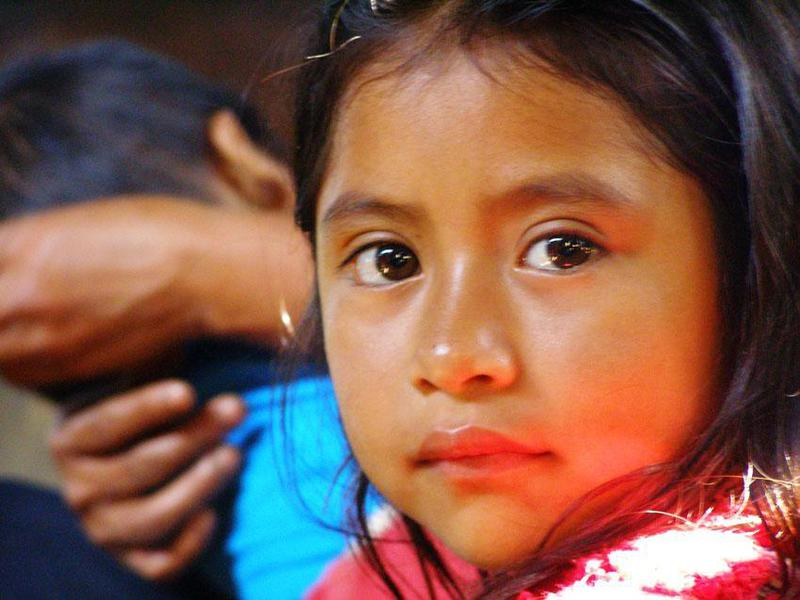person: (225, 1, 798, 600)
